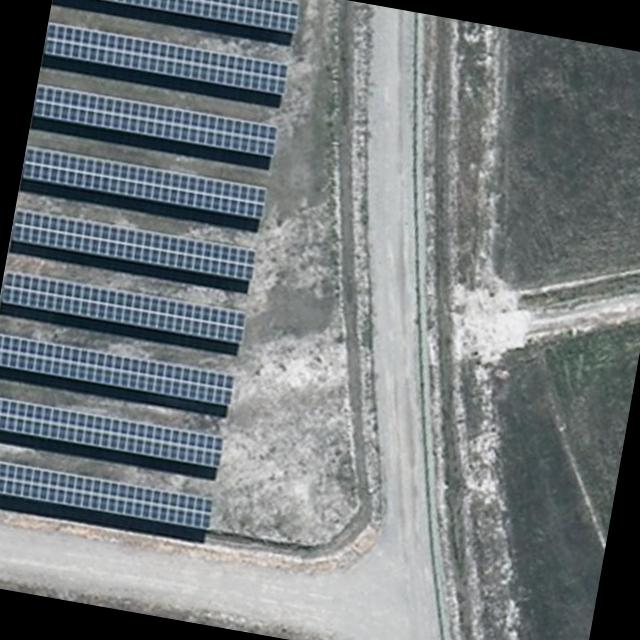solar: (9, 206, 258, 285), (0, 267, 248, 346), (31, 82, 280, 160), (42, 21, 290, 98), (20, 144, 268, 221), (0, 330, 237, 407), (0, 392, 225, 470), (0, 455, 214, 532), (53, 0, 302, 36)
